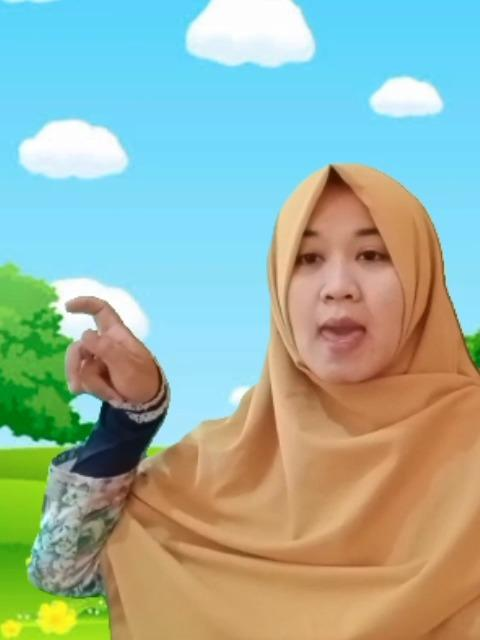X: (54, 288, 170, 424)
